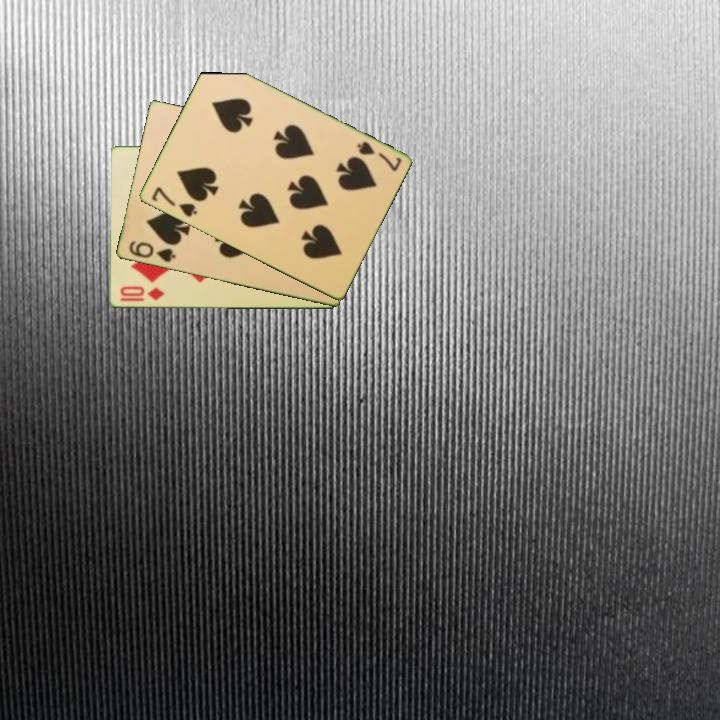10d: (117, 283, 167, 304)
6s: (125, 237, 178, 265)
7s: (148, 183, 200, 220), (353, 138, 404, 174)
